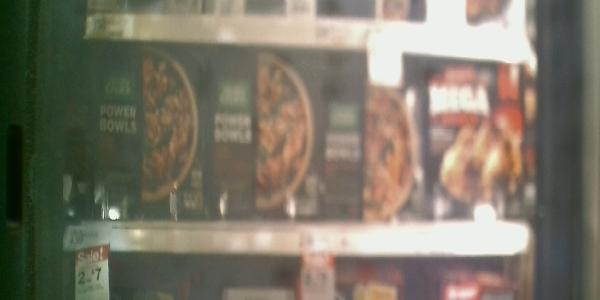pizza1: (368, 45, 535, 226), (216, 48, 363, 223), (73, 47, 213, 221), (365, 53, 367, 57)
